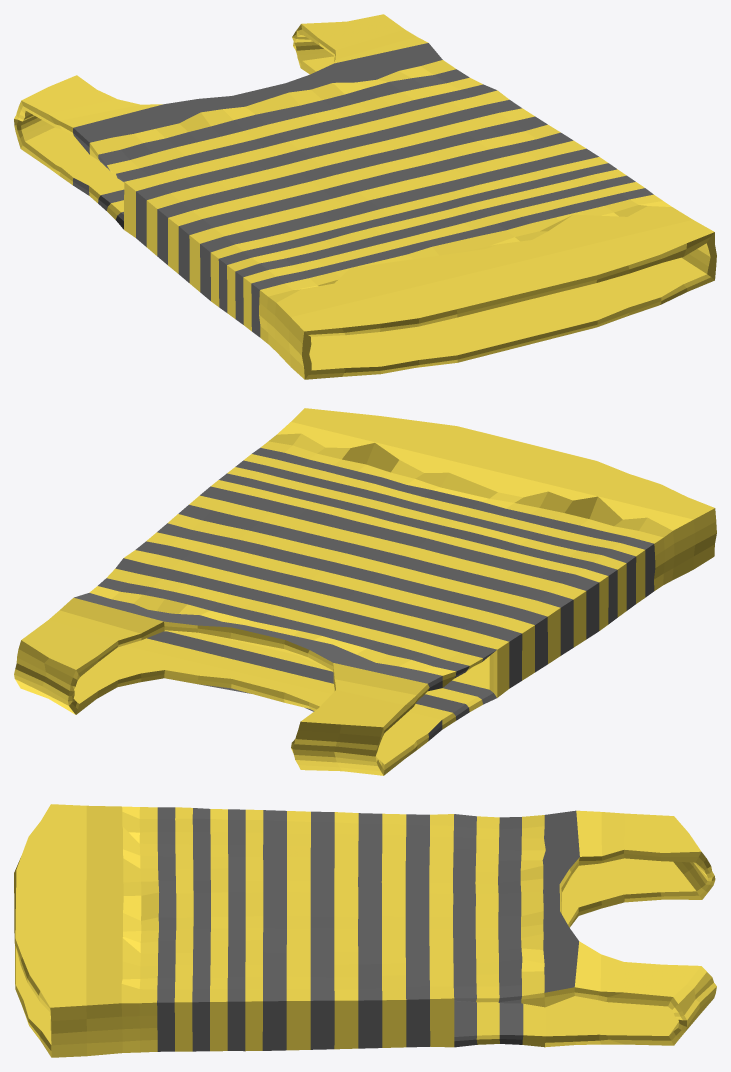
The model's file is Tank Top 2.fbx.
3 renders of one model, top to bottom at view 1: azimuth 30°, elevation 25°; view 2: azimuth 150°, elevation 25°; view 3: azimuth 270°, elevation 25°, orthographic.
Visible parts, largest first — view 1: Node 0; view 2: Node 0; view 3: Node 0.
Part boxes in pixels (left/top/right/bottom): Node 0: left=14, top=14, right=716, bottom=379; Node 0: left=14, top=408, right=716, bottom=775; Node 0: left=14, top=804, right=716, bottom=1057.
Size of the model in its own units: 0.9803 by 0.1216 by 0.6778.
